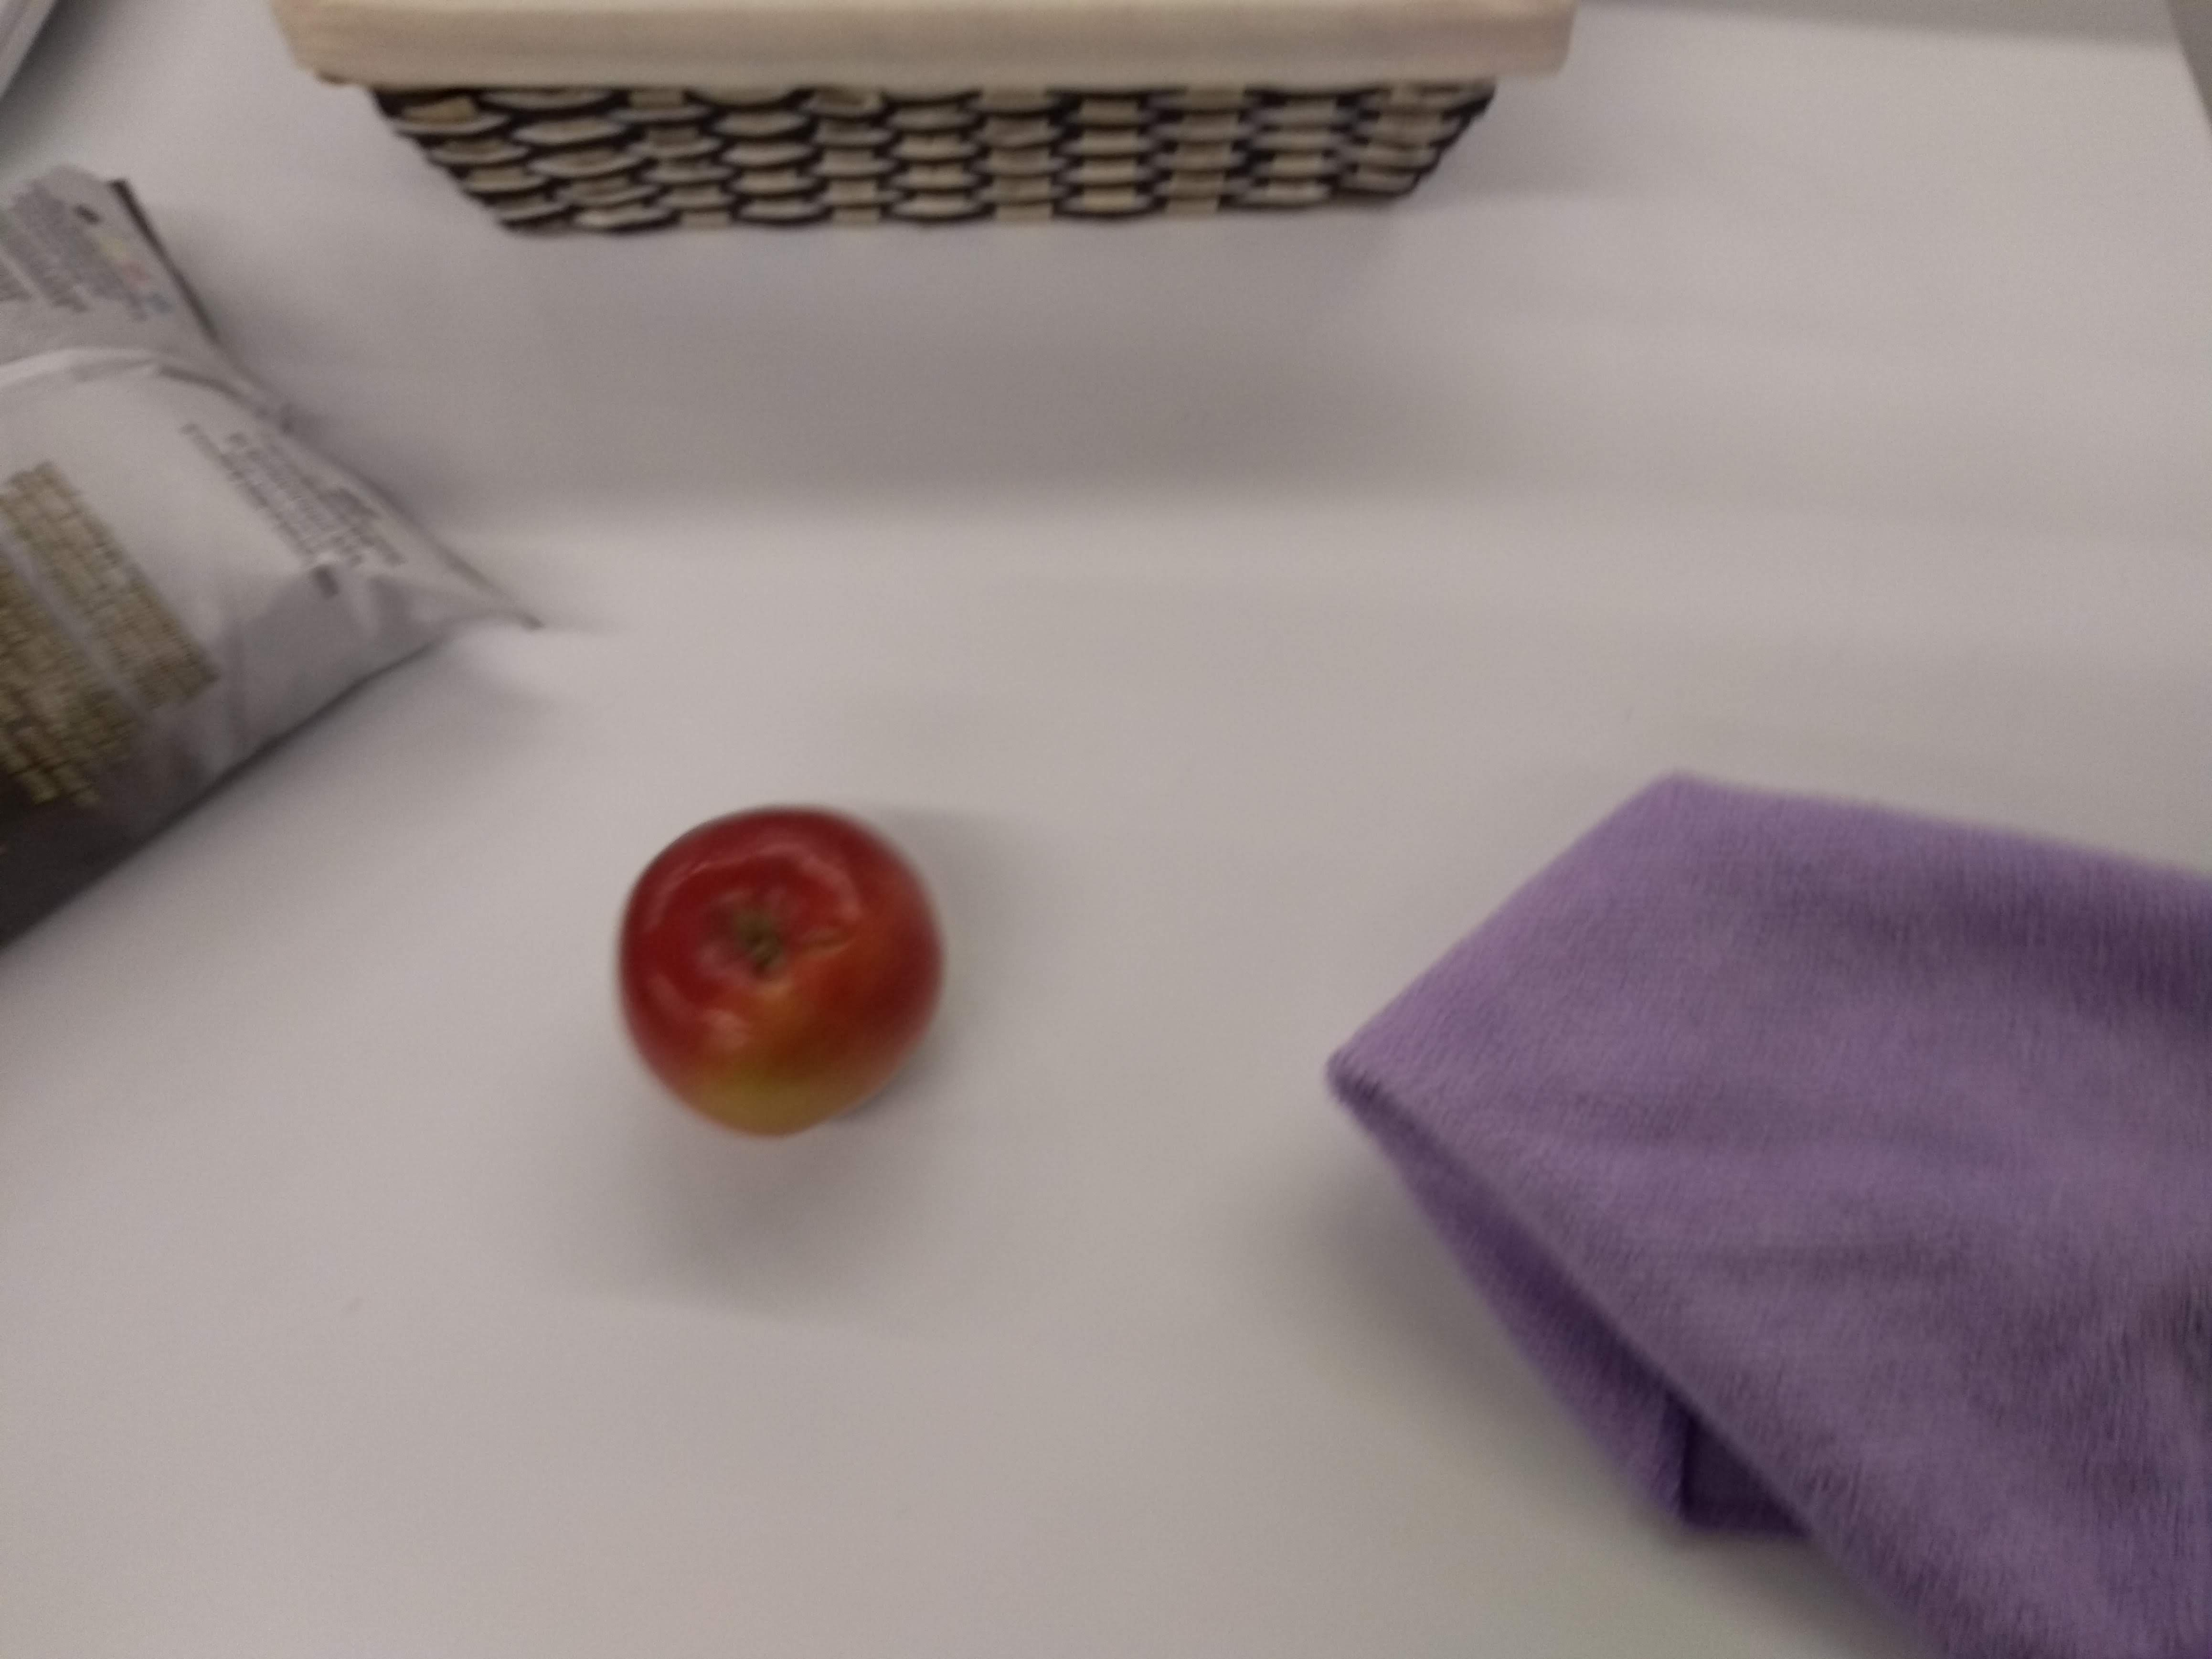apple: (611, 782, 967, 1157)
